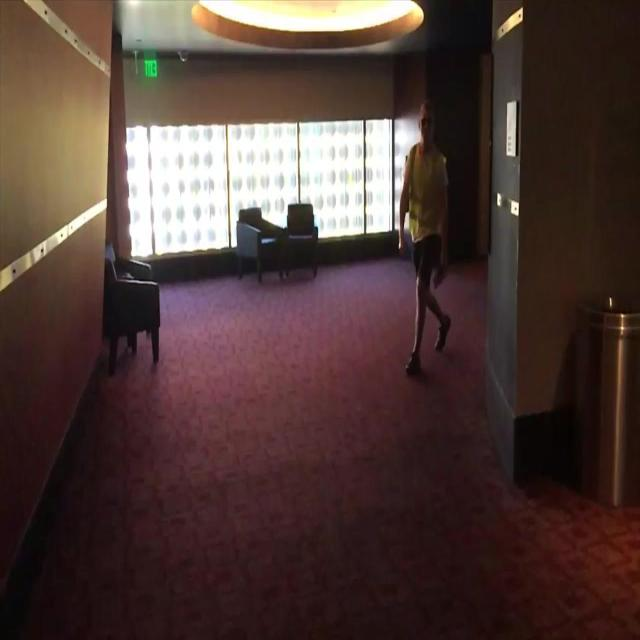jacket: (400, 140, 456, 252)
